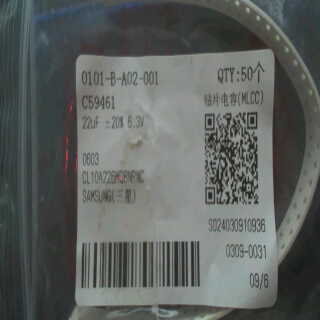22uF: (80, 113, 100, 135)
